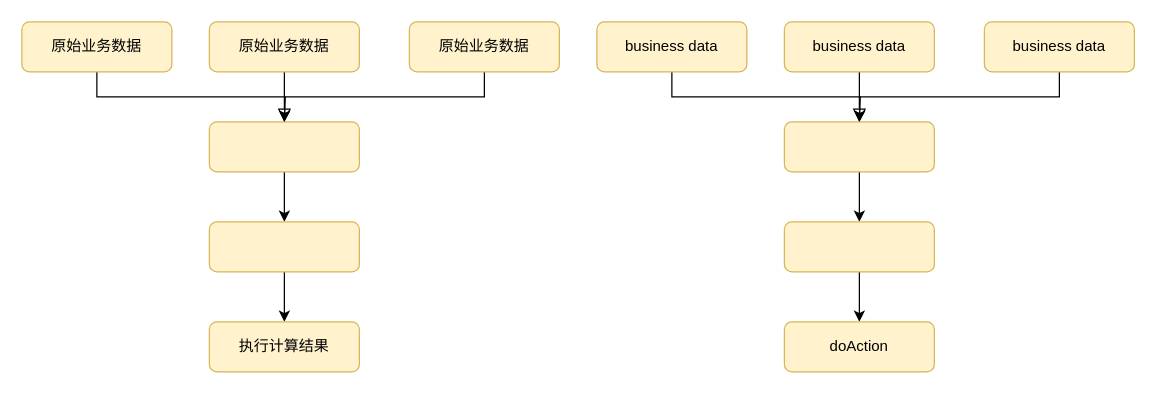
Some shapes in this 1156 by 394 pixel diagram are drawn without their labels. Each missing label, with the centre of its shape:
"abstract data" belongs at pixel 858 146.
"calc" belongs at pixel 858 246.
"抽象类型" belongs at pixel 283 146.
"统一计算" belongs at pixel 283 246.
